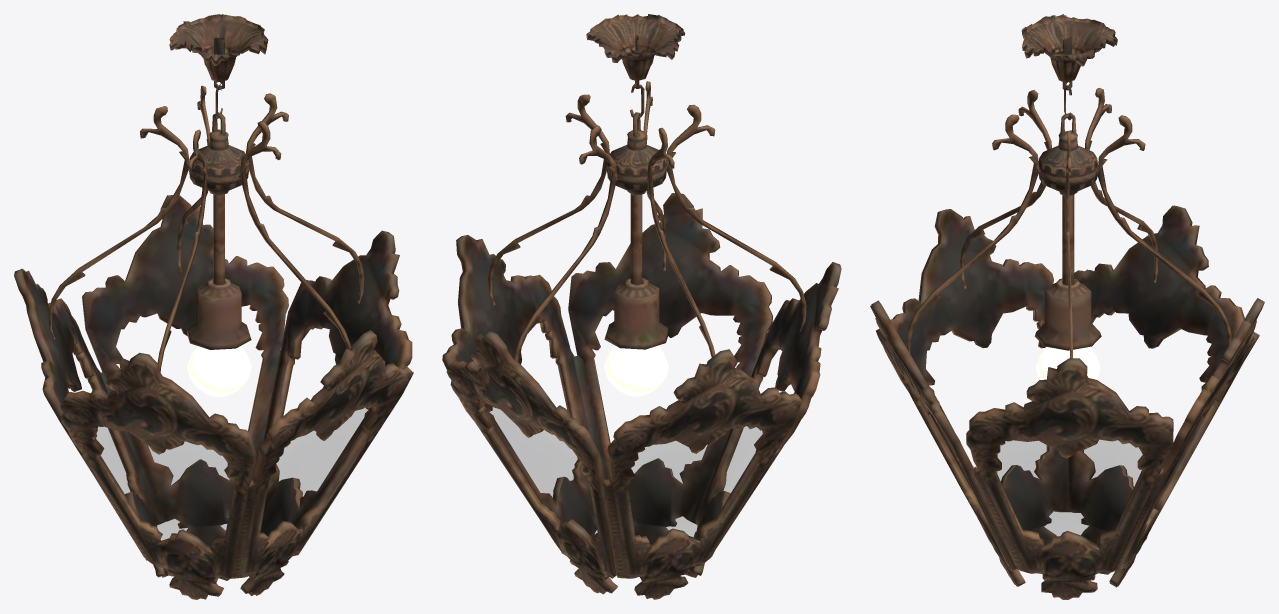
File: lantern_chandelier_01.glb
The picture shows the model from 3 angles, left to right: view 1: azimuth 30°, elevation 25°; view 2: azimuth 150°, elevation 25°; view 3: azimuth 270°, elevation 25°; orthographic projection.
Parts seen in each view (by area): view 1: lantern_chandelier_01; view 2: lantern_chandelier_01; view 3: lantern_chandelier_01.
Part boxes in pixels (<box>): lantern_chandelier_01: <box>14,14,413,599</box>; lantern_chandelier_01: <box>442,14,841,599</box>; lantern_chandelier_01: <box>870,14,1264,599</box>.
Size of the model in its own units: 0.5792 by 0.8776 by 0.5746.
3 materials, 2 textured.
